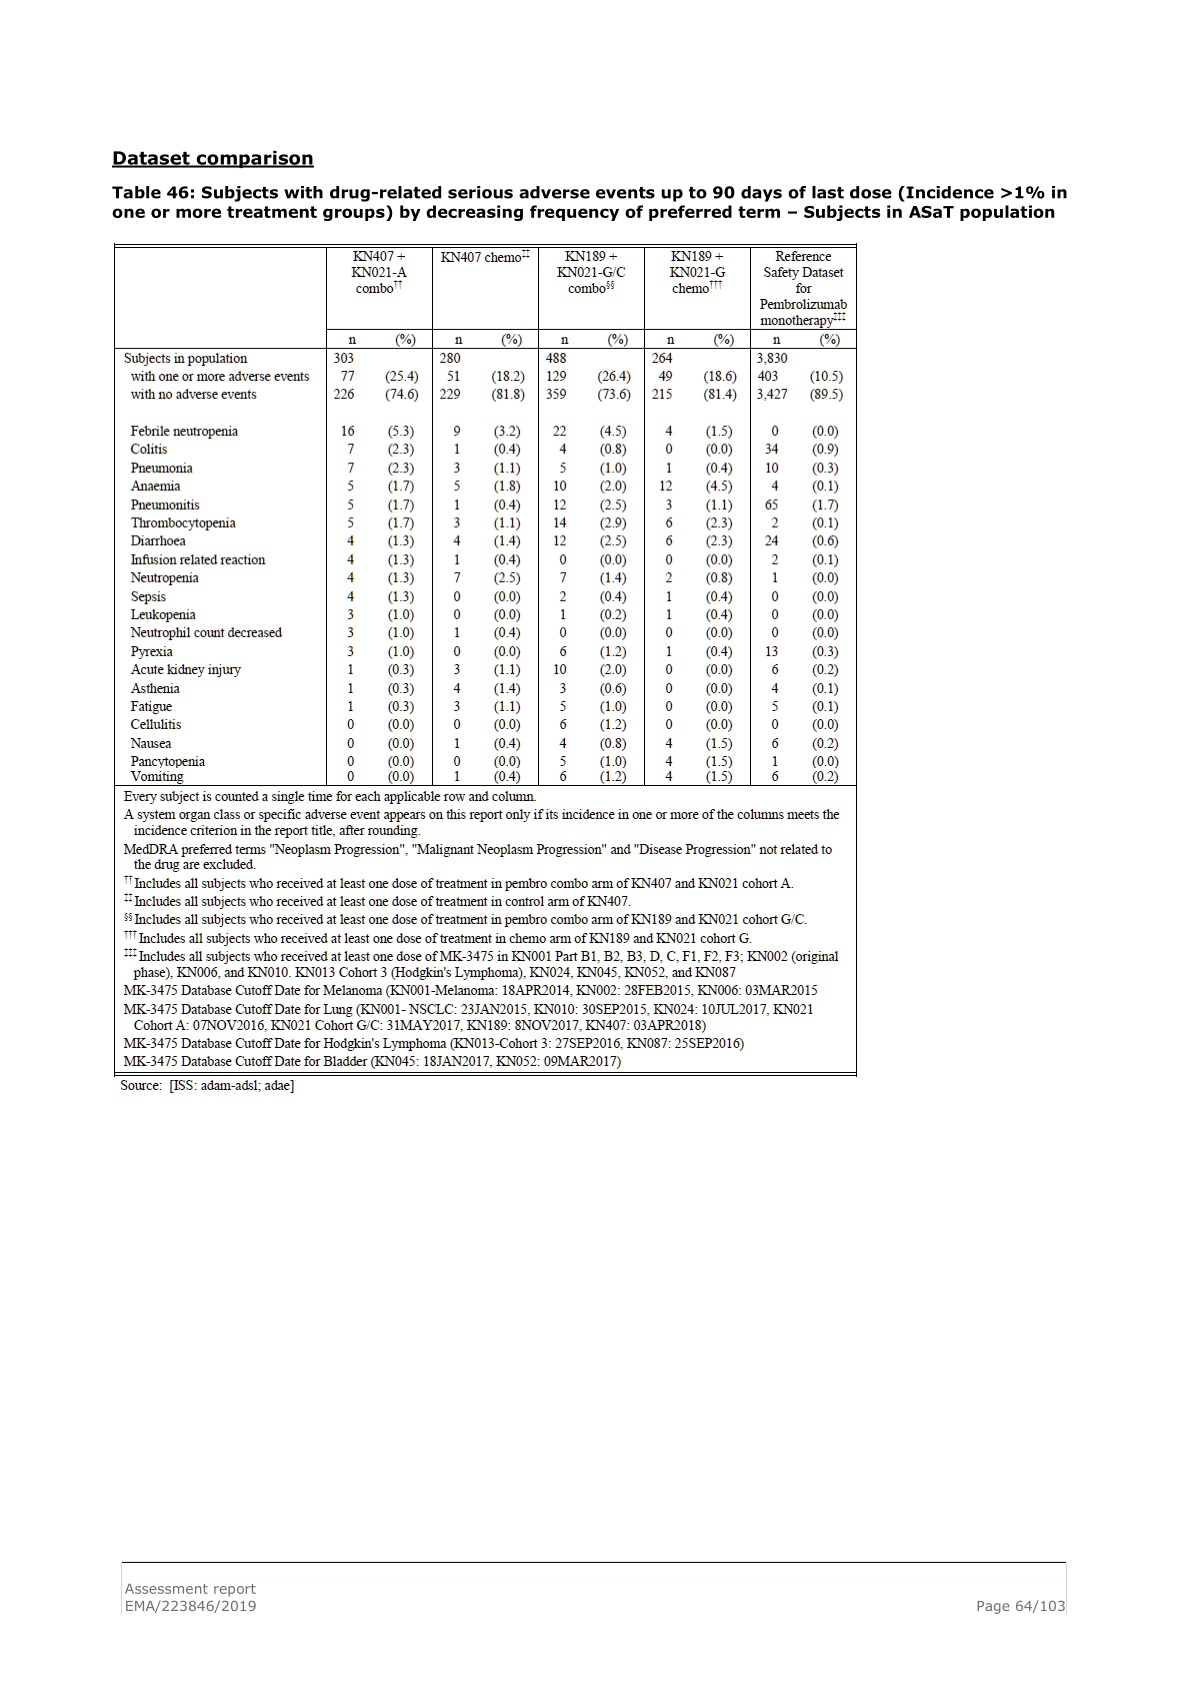partial_lined_merged_cells: (113, 243, 858, 1077)
